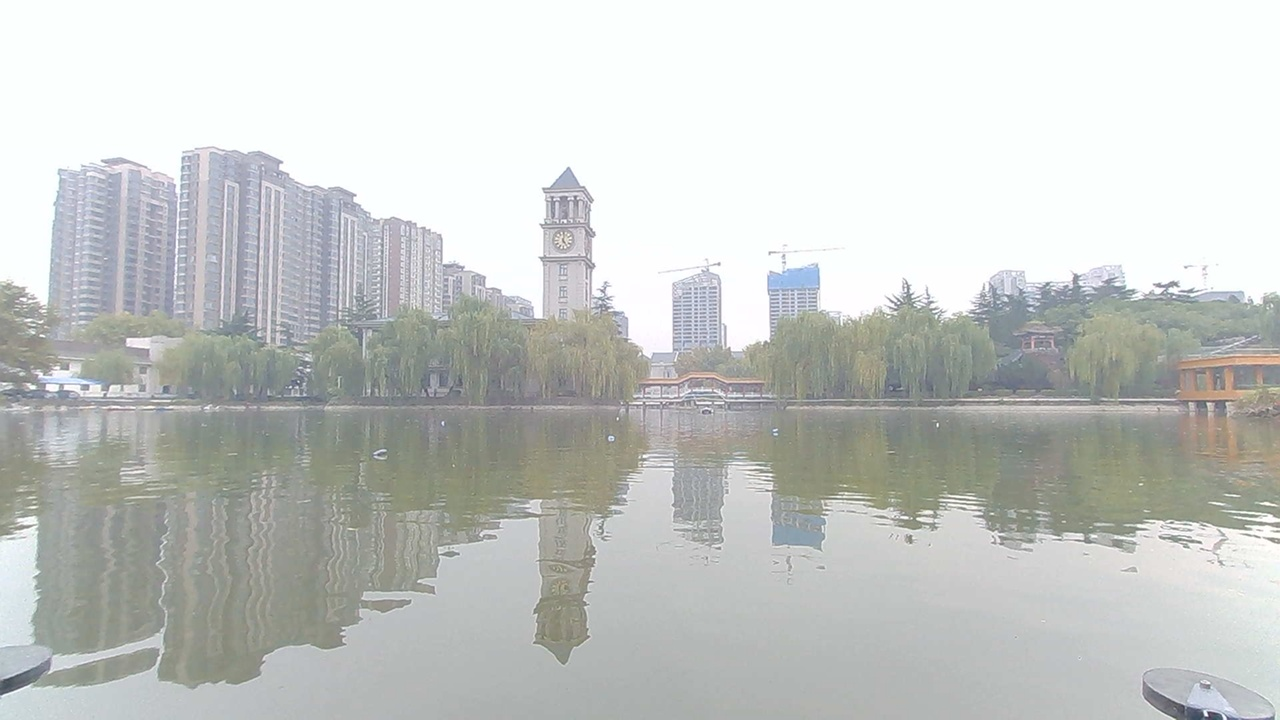bottle: (363, 438, 400, 467), (423, 410, 460, 439), (754, 423, 788, 450), (934, 410, 964, 436), (592, 430, 629, 451), (603, 409, 632, 431)
